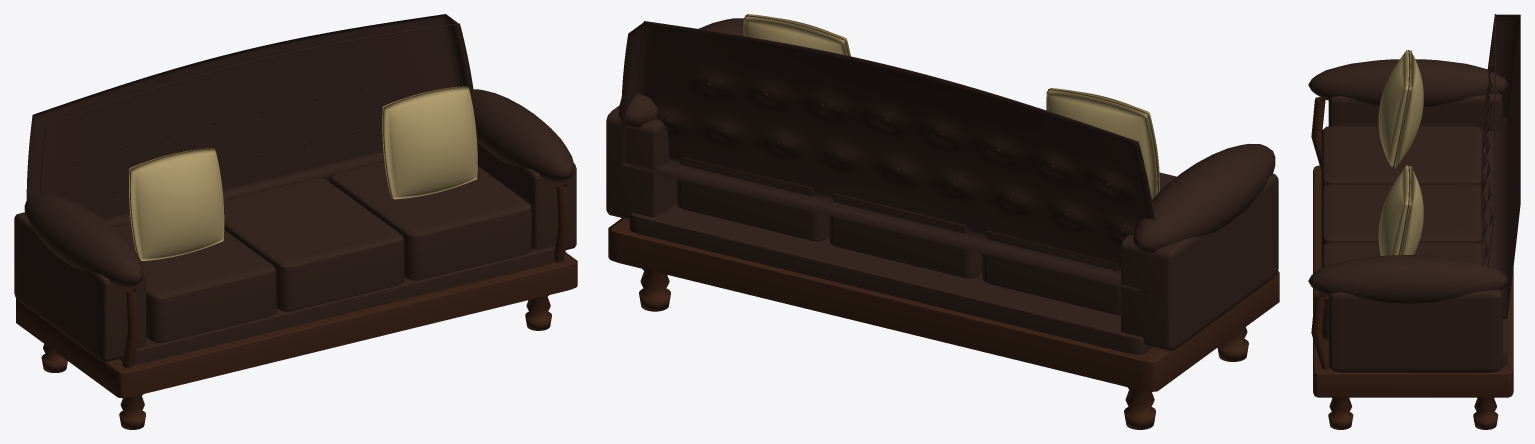
File: Sofa_ThreeSeat.fbx
3 renders of one model, left to right at view 1: azimuth 30°, elevation 25°; view 2: azimuth 150°, elevation 25°; view 3: azimuth 270°, elevation 25°, orthographic. The views are drawn at different scales.
Parts seen in each view (by area): view 1: Continuous tufted leather back.002, Carved sofa apron.002, Separate seat pad.005, Separate seat pad.006, Separate seat pad.004, Leather arm body.004, Separate brocade cushion.004, Separate brocade cushion.003, Upholstered seat support.002, Leather arm roll.004, Leather arm roll.005, Leather arm body.005 (+5 smaller); view 2: Continuous tufted leather back.002, Carved sofa apron.002, Upholstered seat support.002, Leather arm body.004, Leather arm roll.004, Separate seat pad.005, Leather arm body.005, Separate seat pad.006, Separate seat pad.004, Separate brocade cushion.003, Separate brocade cushion.004, Back welt seam.002 (+4 smaller); view 3: Leather arm body.005, Continuous tufted leather back.002, Separate seat pad.004, Leather arm roll.005, Separate seat pad.005, Carved sofa apron.002, Leather arm roll.004, Separate brocade cushion.003, Leather arm body.004, Separate brocade cushion.004, Separate seat pad.006, Arm front wood trim.005 (+5 smaller).
Boxes of the visible parts, x1,y1,x2,y2 form: Continuous tufted leather back.002: (26, 14, 472, 226); Carved sofa apron.002: (16, 252, 577, 398); Separate seat pad.005: (223, 177, 404, 311); Separate seat pad.006: (329, 160, 531, 280); Separate seat pad.004: (113, 222, 276, 343); Leather arm body.004: (14, 212, 146, 362); Separate brocade cushion.004: (382, 86, 477, 199); Separate brocade cushion.003: (129, 148, 224, 260); Upholstered seat support.002: (119, 246, 554, 364); Leather arm roll.004: (24, 194, 143, 287); Leather arm roll.005: (469, 89, 573, 182); Leather arm body.005: (477, 142, 576, 250); Continuous tufted leather back.002: (621, 22, 1153, 292); Carved sofa apron.002: (608, 218, 1279, 391); Upholstered seat support.002: (629, 204, 1152, 354); Leather arm body.004: (1121, 173, 1278, 351); Leather arm roll.004: (1133, 144, 1275, 252); Separate seat pad.005: (829, 193, 982, 278); Leather arm body.005: (606, 106, 676, 219); Separate seat pad.006: (676, 157, 829, 241); Separate seat pad.004: (982, 172, 1176, 315); Separate brocade cushion.003: (1046, 88, 1159, 199); Separate brocade cushion.004: (743, 14, 850, 56); Back welt seam.002: (637, 21, 1155, 271); Leather arm body.005: (1328, 289, 1502, 372); Continuous tufted leather back.002: (1481, 14, 1520, 318); Separate seat pad.004: (1321, 126, 1483, 188); Leather arm roll.005: (1308, 255, 1508, 303); Separate seat pad.005: (1321, 184, 1483, 246); Carved sofa apron.002: (1313, 165, 1513, 397); Leather arm roll.004: (1308, 59, 1508, 106); Separate brocade cushion.003: (1378, 50, 1423, 168); Leather arm body.004: (1328, 93, 1502, 131); Separate brocade cushion.004: (1378, 165, 1423, 255); Separate seat pad.006: (1321, 242, 1483, 340); Arm front wood trim.005: (1311, 293, 1330, 369).
Bounding box in the file's own units: 2.16 × 1.08 × 0.88.
